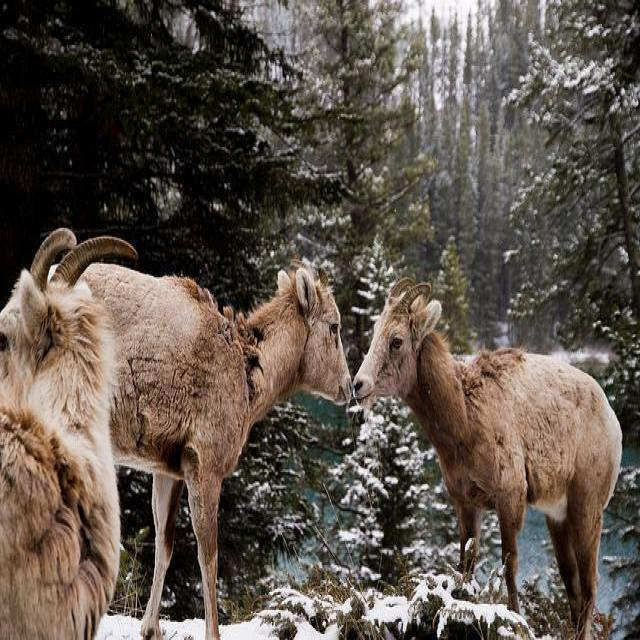Sheep: (91, 262, 353, 632), (353, 279, 623, 634), (0, 220, 138, 632)
